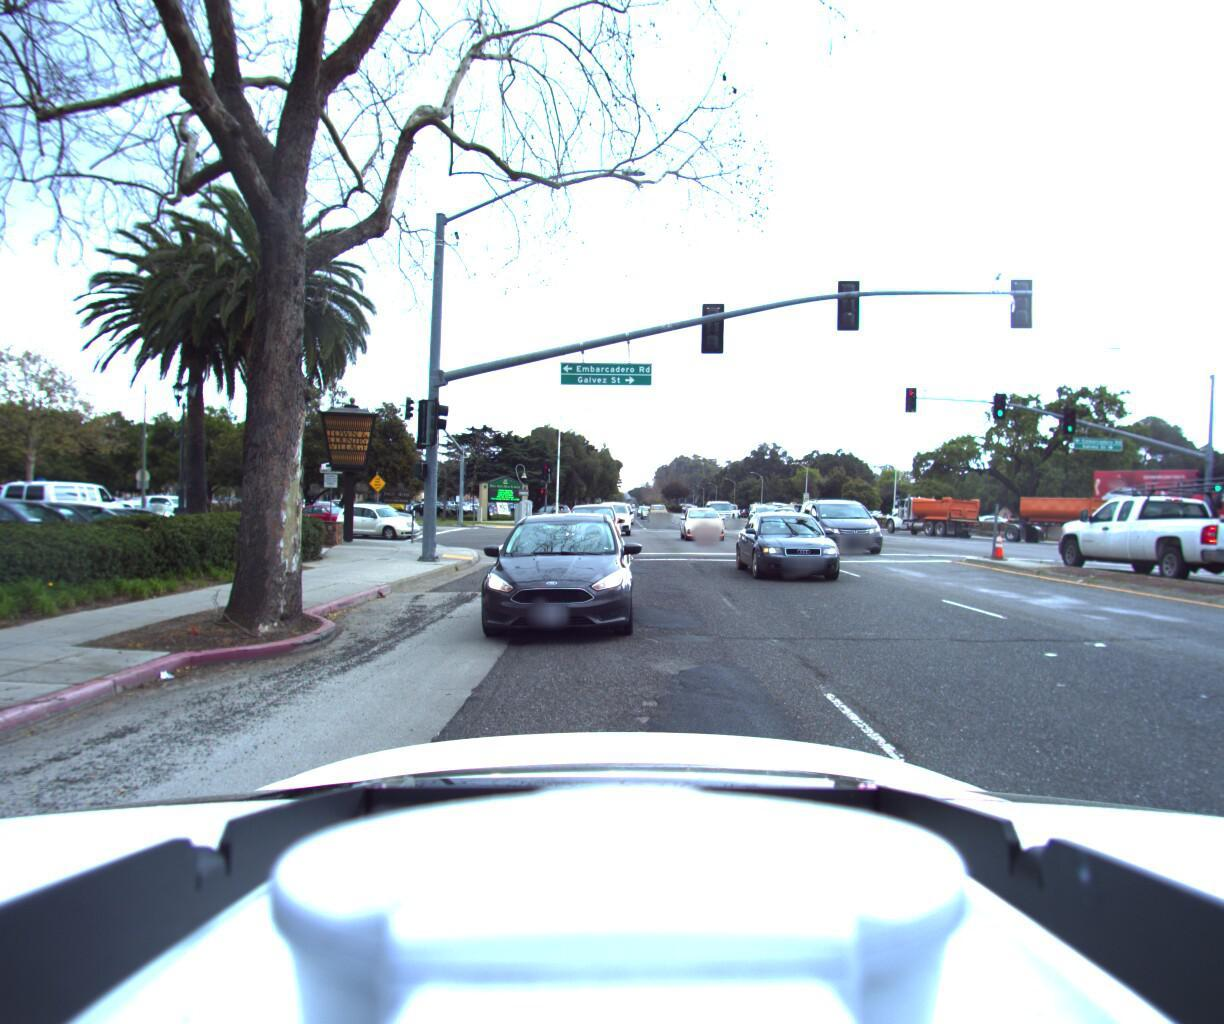car: (466, 510, 635, 655), (1044, 474, 1224, 594), (39, 505, 246, 566), (735, 510, 864, 592), (799, 496, 903, 561), (330, 503, 428, 542), (562, 505, 626, 557), (281, 500, 374, 532), (82, 500, 173, 530), (133, 495, 216, 527), (678, 507, 731, 546), (593, 498, 636, 537), (710, 503, 746, 532), (764, 506, 805, 532), (644, 504, 668, 523)
truck: (975, 493, 1106, 547), (877, 489, 1011, 541)
